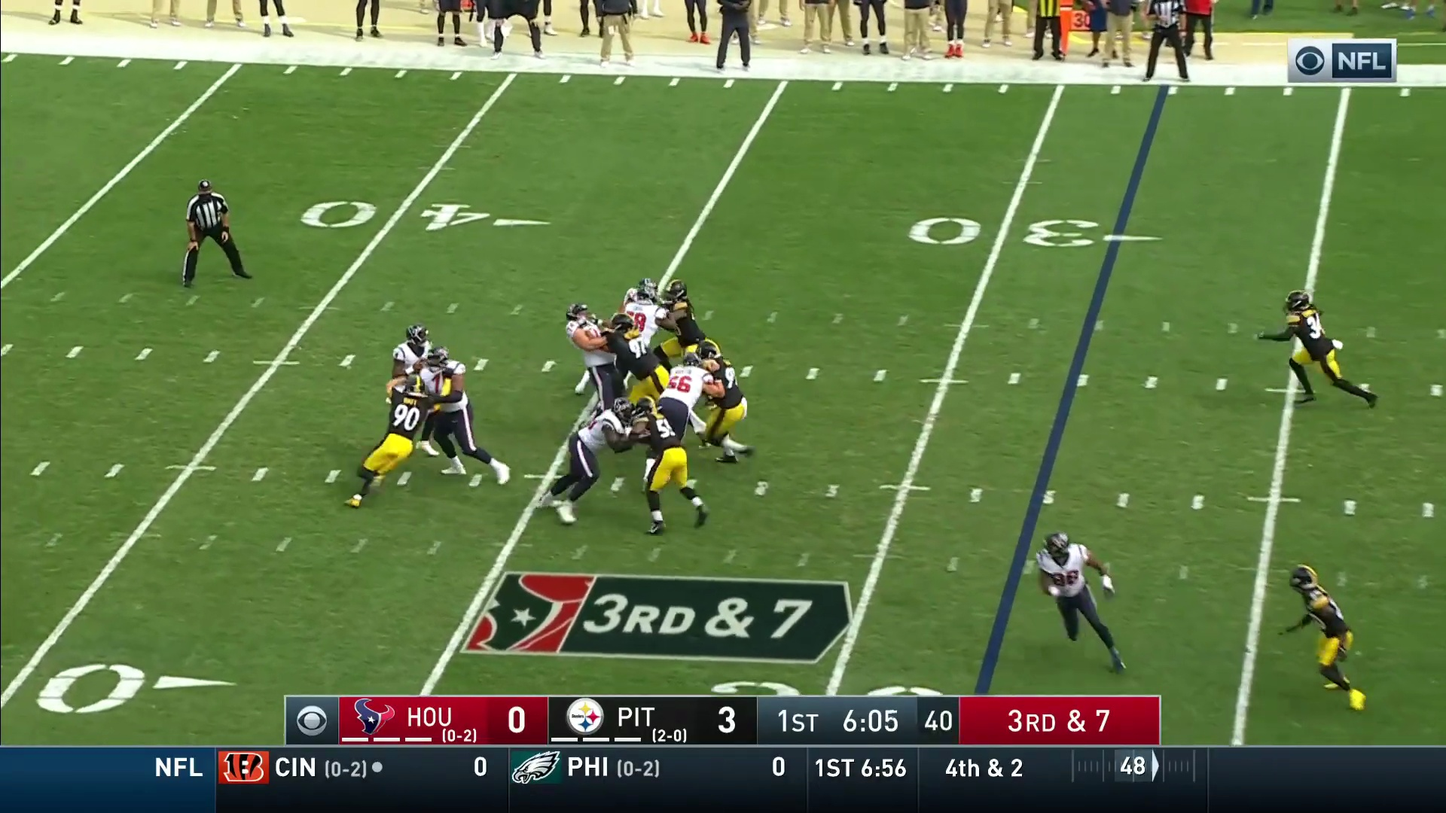Player: (423, 348, 477, 469), (697, 341, 748, 460), (385, 324, 431, 451), (567, 304, 617, 406), (613, 280, 662, 376), (657, 363, 706, 442), (659, 279, 702, 351)
